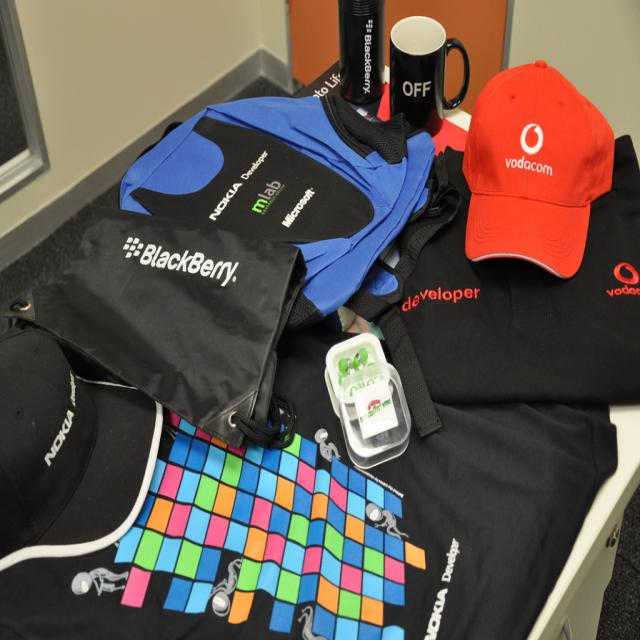Hat: (0, 326, 162, 570), (458, 54, 614, 278)
